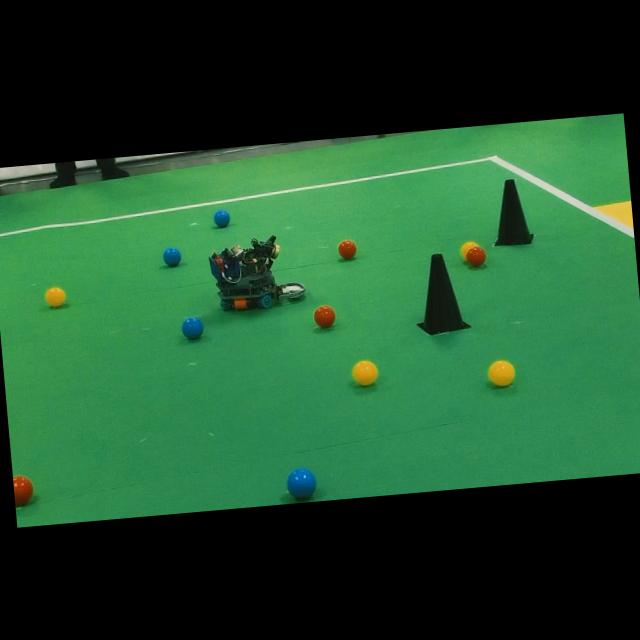ball: (287, 468, 316, 498), (487, 359, 514, 386), (353, 360, 378, 385), (13, 475, 32, 506), (181, 317, 203, 339), (314, 305, 335, 327), (45, 286, 66, 306), (338, 240, 357, 259), (467, 246, 486, 265), (163, 246, 181, 265), (460, 241, 478, 259), (213, 209, 230, 227)
goal: (595, 200, 633, 227)
